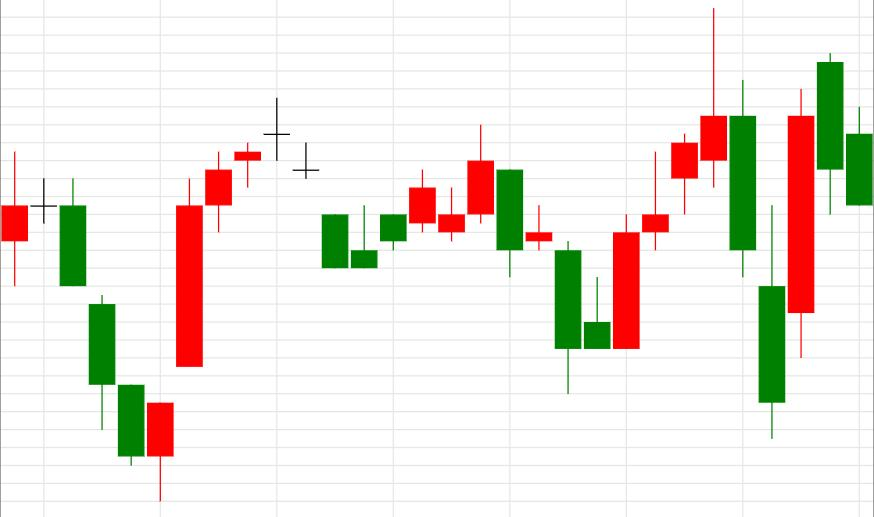shooting_star_fall: (584, 8, 726, 349)
three_black_crows_fall: (1, 150, 145, 465)
